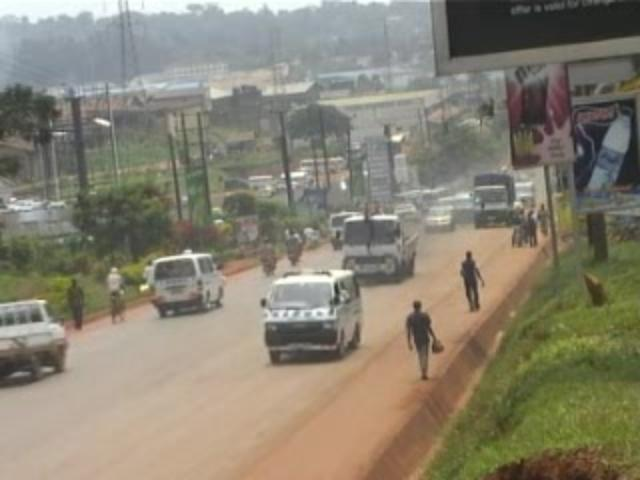motorcycle: (287, 229, 306, 269), (260, 237, 279, 275)
truck: (0, 296, 70, 380), (343, 211, 419, 279), (473, 175, 513, 230)
van: (261, 266, 359, 364), (147, 246, 222, 316)
